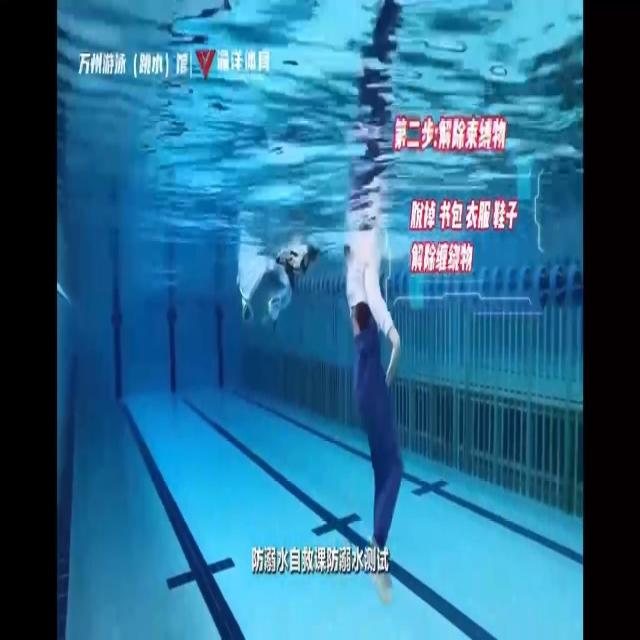Drowning: (346, 225, 403, 603)
